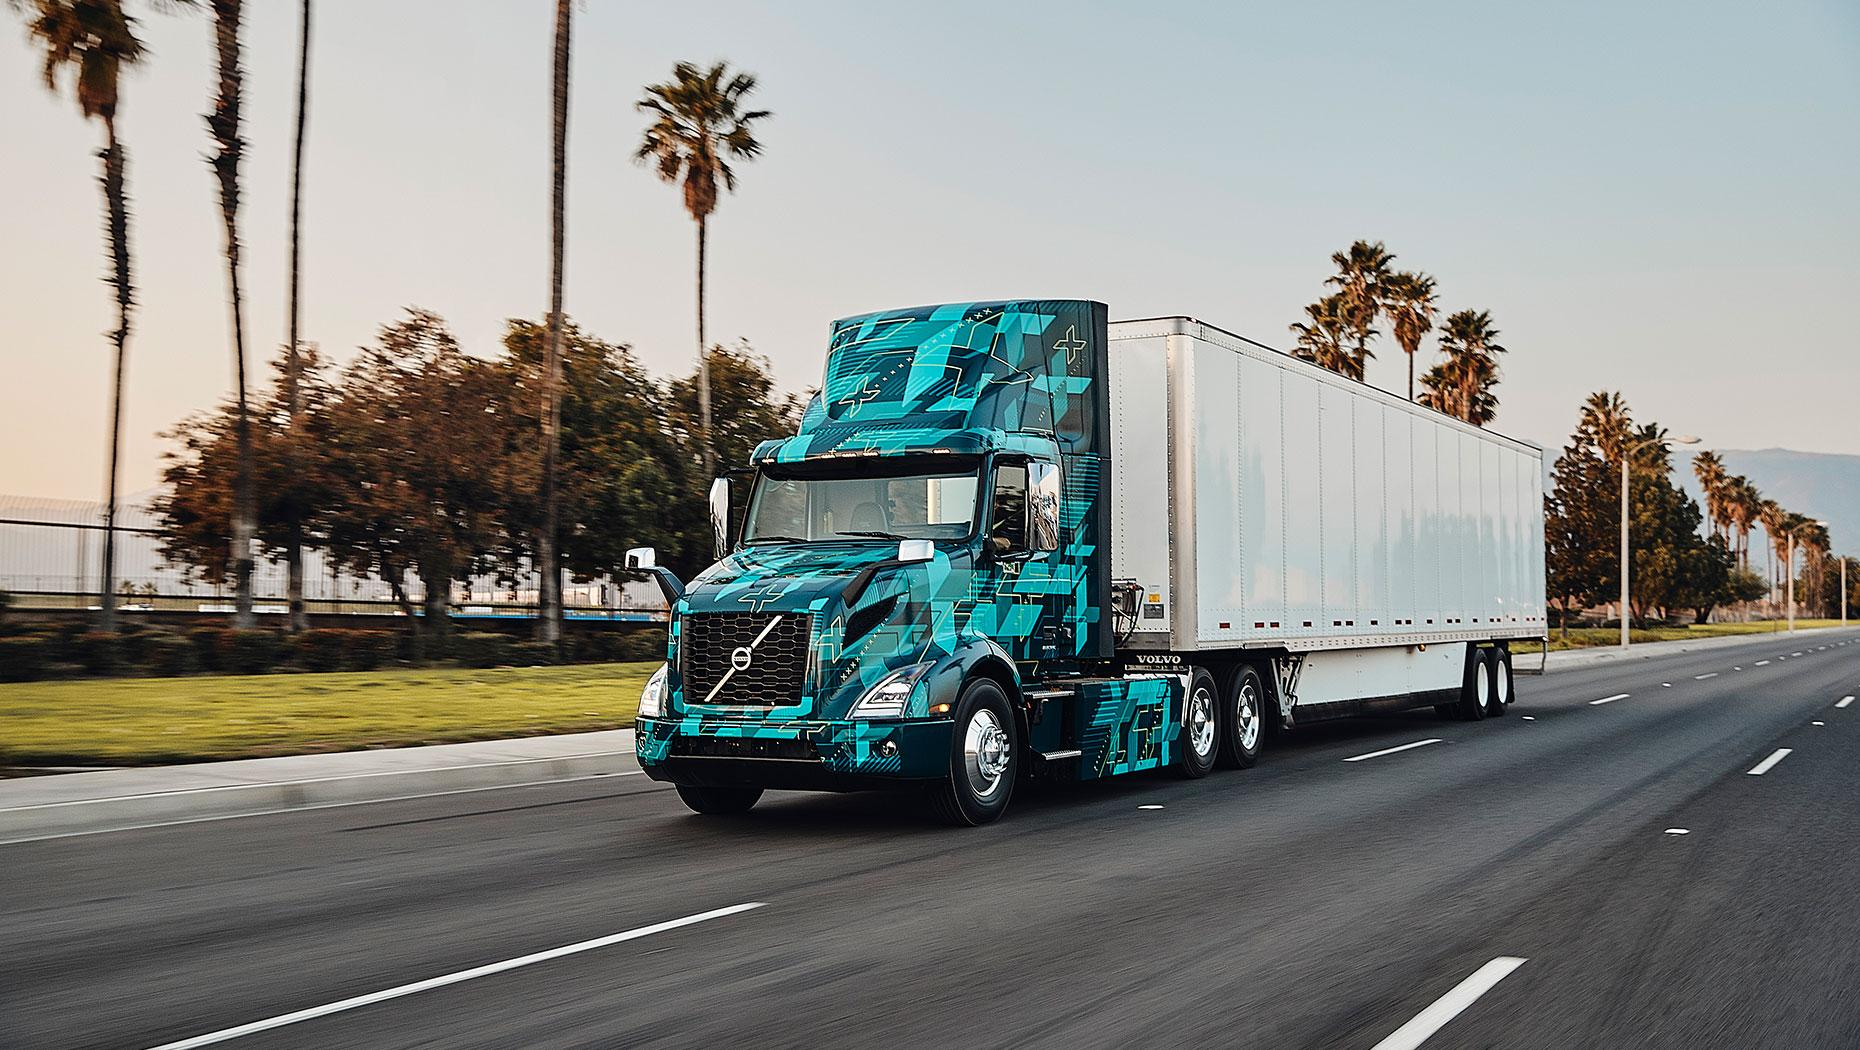truck: (622, 297, 1548, 828)
